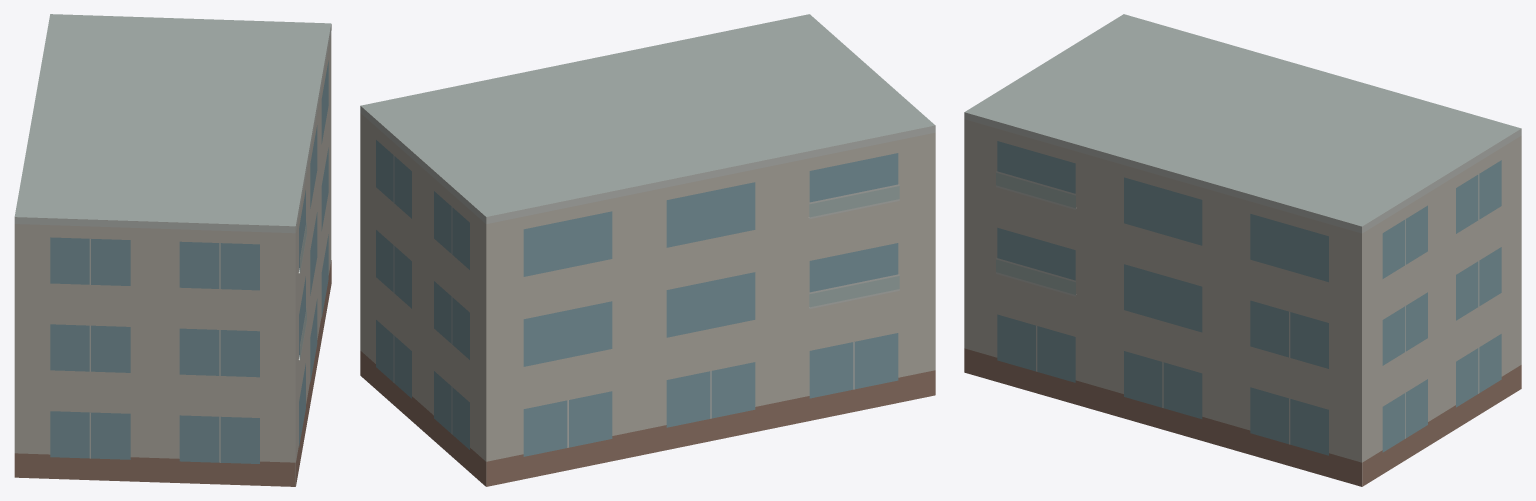
Rendered from survey-upis-32700480.glb.
3 views of the same model, side by side, from view 1: azimuth 30°, elevation 25°; view 2: azimuth 150°, elevation 25°; view 3: azimuth 270°, elevation 25° (orthographic). The views are drawn at different scales.
Parts seen in each view (by area): view 1: survey-upis-32700480.tmp; view 2: survey-upis-32700480.tmp; view 3: survey-upis-32700480.tmp.
Part boxes in pixels (x1,y1,x2,y2): survey-upis-32700480.tmp: (14, 14, 331, 486); survey-upis-32700480.tmp: (360, 14, 935, 486); survey-upis-32700480.tmp: (964, 14, 1521, 486).
Size of the model in its own units: 16.04 by 9.15 by 17.76.
